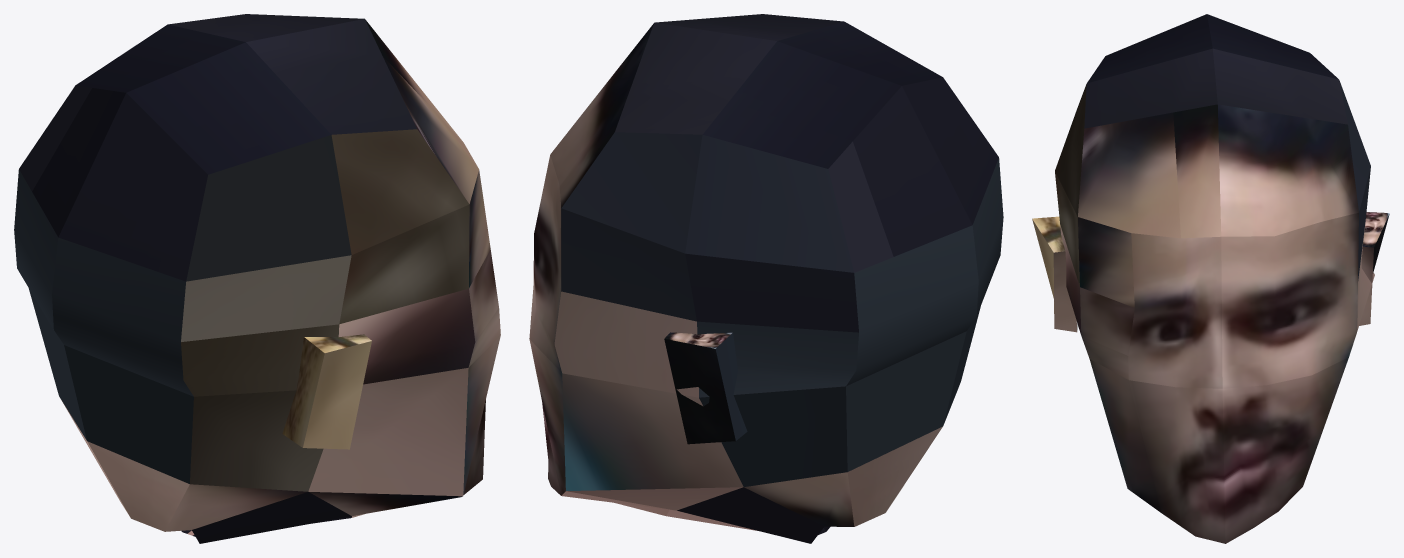
Rendered from arpit2.fbx.
3 renders of one model, left to right at view 1: azimuth 30°, elevation 25°; view 2: azimuth 150°, elevation 25°; view 3: azimuth 270°, elevation 25°, orthographic. The views are drawn at different scales.
Visible parts, largest first — view 1: Cylinder; view 2: Cylinder; view 3: Cylinder.
Boxes of the visible parts, <box> form: Cylinder: <box>14,14,500,543</box>; Cylinder: <box>529,14,1003,543</box>; Cylinder: <box>1032,14,1389,543</box>.
Bounding box in the file's own units: 91.45 × 102 × 80.57.
Materials: 1 (1 with a texture image).
